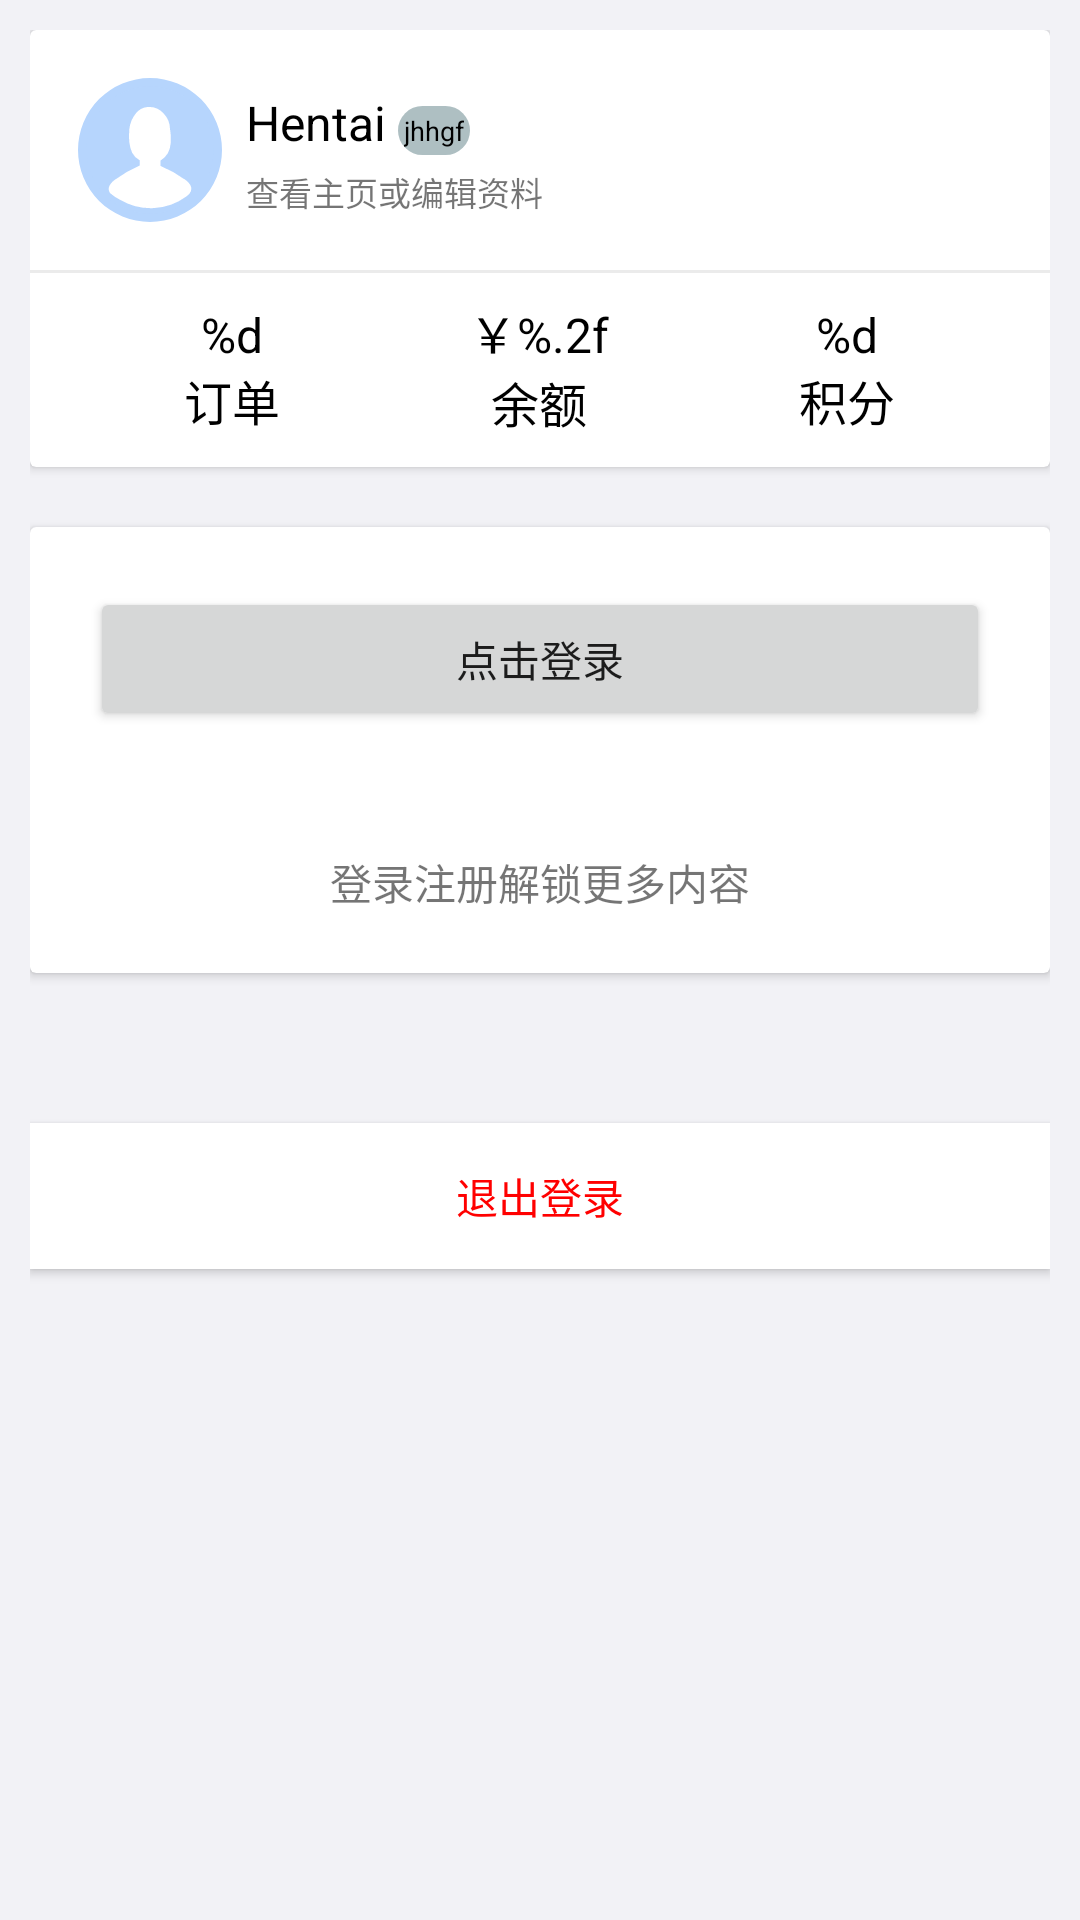

Icons on this 1080 x 1920 Android screen, each with the point to tap as (x,y):
user avatars: (150,150)
